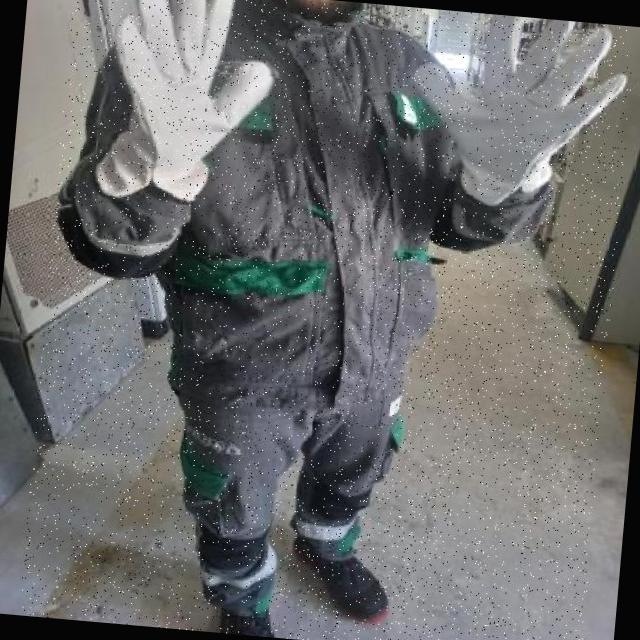boots: (288, 528, 399, 630)
